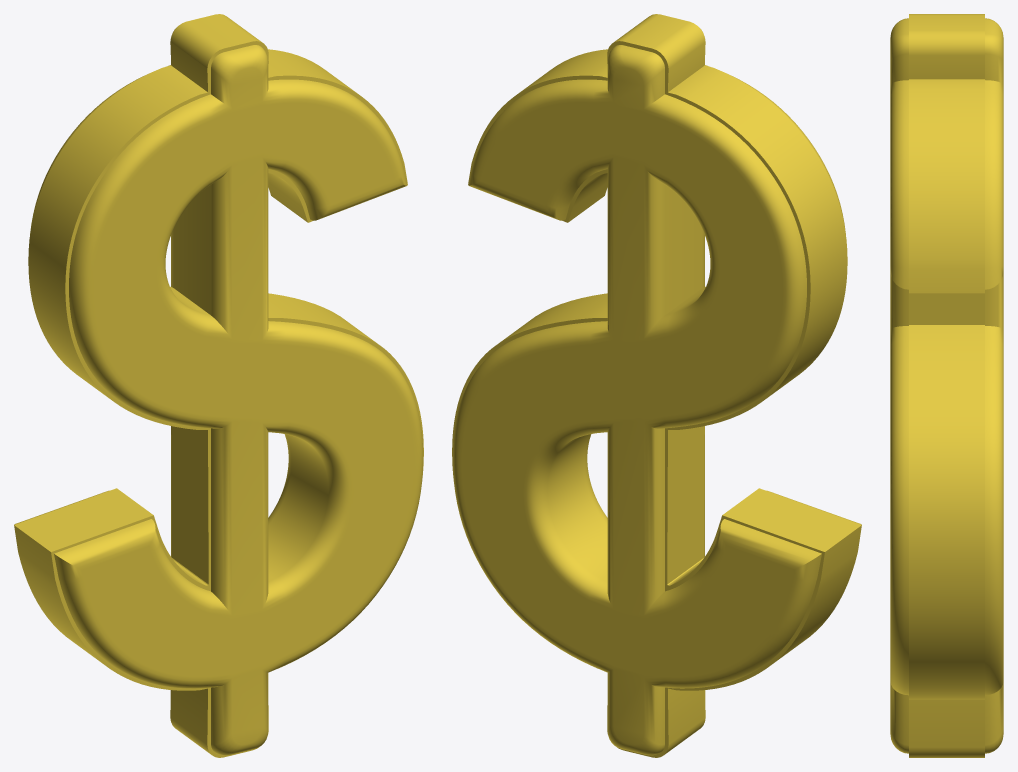
Rendered from DollarSign.gltf.
3 renders of one model, left to right at view 1: azimuth 30°, elevation 25°; view 2: azimuth 150°, elevation 25°; view 3: azimuth 270°, elevation 25°, orthographic. The views are drawn at different scales.
Parts seen in each view (by area): view 1: doller_0; view 2: doller_0; view 3: doller_0.
Part boxes in pixels (<box>): doller_0: <box>14,14,423,757</box>; doller_0: <box>452,14,861,757</box>; doller_0: <box>890,14,1003,757</box>.
Bounding box in the file's own units: 1.28 × 2.33 × 0.3288.
